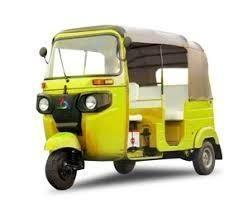keke: (32, 23, 224, 192)
